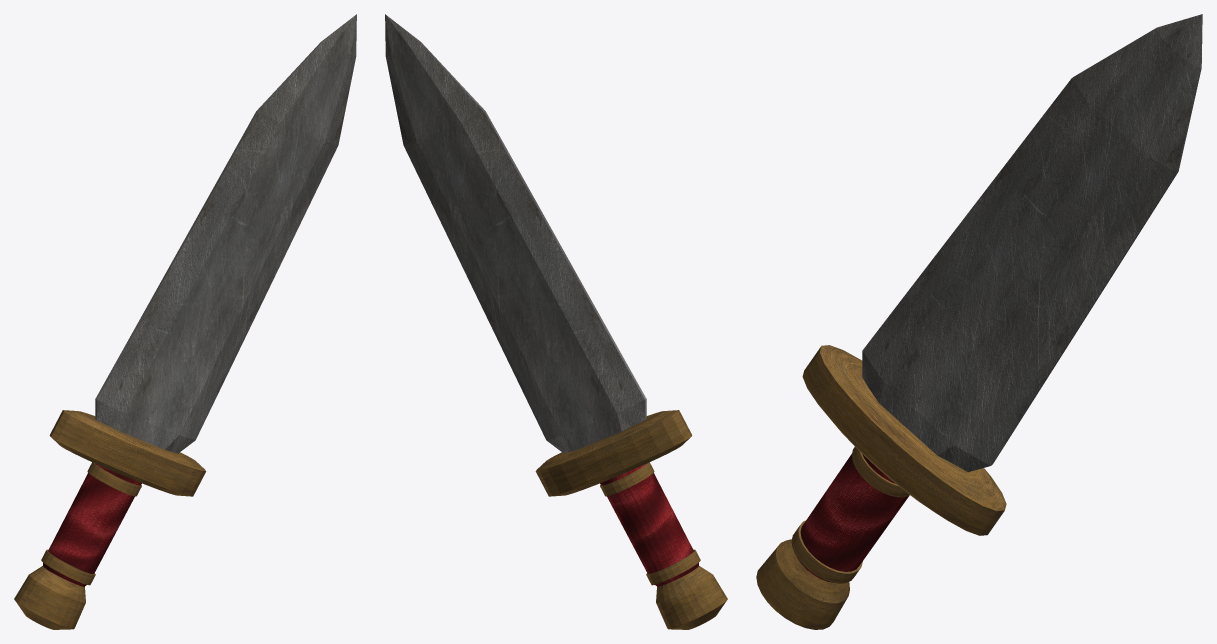
The model's file is dagger.obj.
3 renders of one model, left to right at view 1: azimuth 30°, elevation 25°; view 2: azimuth 150°, elevation 25°; view 3: azimuth 330°, elevation 25°, orthographic. The views are drawn at different scales.
Parts seen in each view (by area): view 1: blade, guard, grip, pommel, grip_band0, grip_band1; view 2: blade, guard, grip, pommel, grip_band0, grip_band1; view 3: blade, guard, grip, pommel, grip_band0, grip_band1.
Part boxes in pixels (left/top/right/bottom): blade: left=95, top=14, right=356, bottom=453; guard: left=49, top=410, right=206, bottom=496; grip: left=43, top=464, right=141, bottom=586; pommel: left=14, top=566, right=85, bottom=629; grip_band0: left=41, top=549, right=95, bottom=585; grip_band1: left=87, top=462, right=141, bottom=496; blade: left=385, top=14, right=646, bottom=453; guard: left=535, top=410, right=692, bottom=496; grip: left=600, top=464, right=698, bottom=586; pommel: left=656, top=566, right=727, bottom=629; grip_band0: left=646, top=549, right=700, bottom=585; grip_band1: left=600, top=462, right=654, bottom=496; blade: left=862, top=14, right=1202, bottom=472; guard: left=802, top=345, right=1006, bottom=535; grip: left=796, top=454, right=908, bottom=582; pommel: left=756, top=539, right=849, bottom=629; grip_band0: left=791, top=520, right=862, bottom=583; grip_band1: left=851, top=447, right=909, bottom=497.
Size of the model in its own units: 76.05 by 116 by 11.94.
3 materials, 3 textured.
